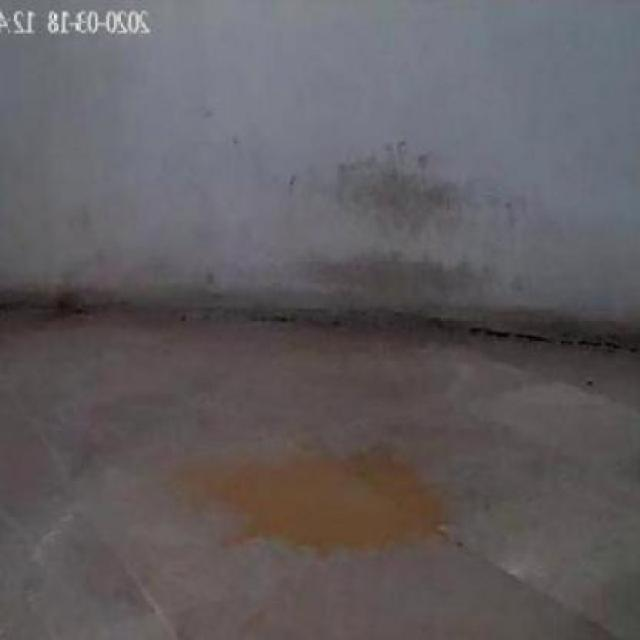spillage: (161, 440, 454, 563)
